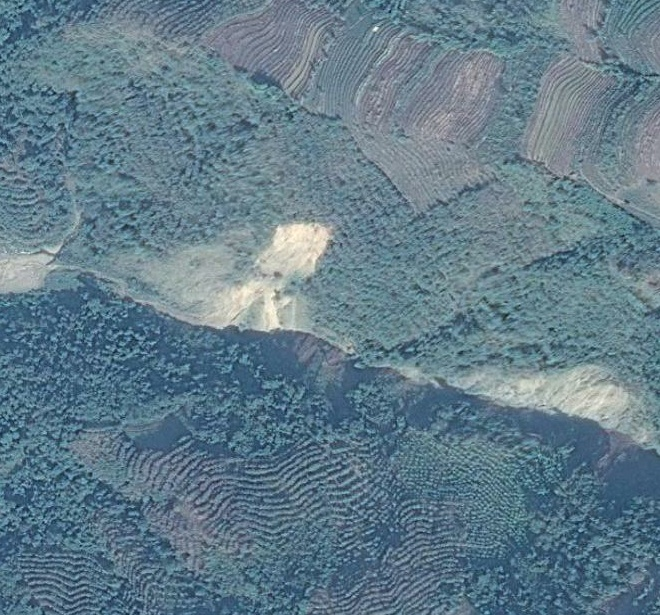slope: (450, 353, 654, 481), (212, 212, 331, 342), (0, 241, 64, 296)
